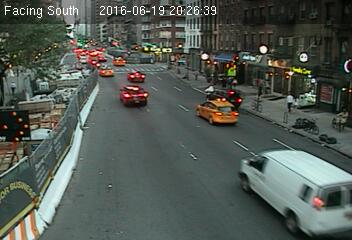neg: (328, 104, 351, 134), (251, 95, 266, 114), (166, 51, 177, 66), (181, 66, 192, 80)
pos: (281, 90, 299, 115), (191, 66, 203, 82), (261, 78, 273, 94), (256, 78, 267, 93)
